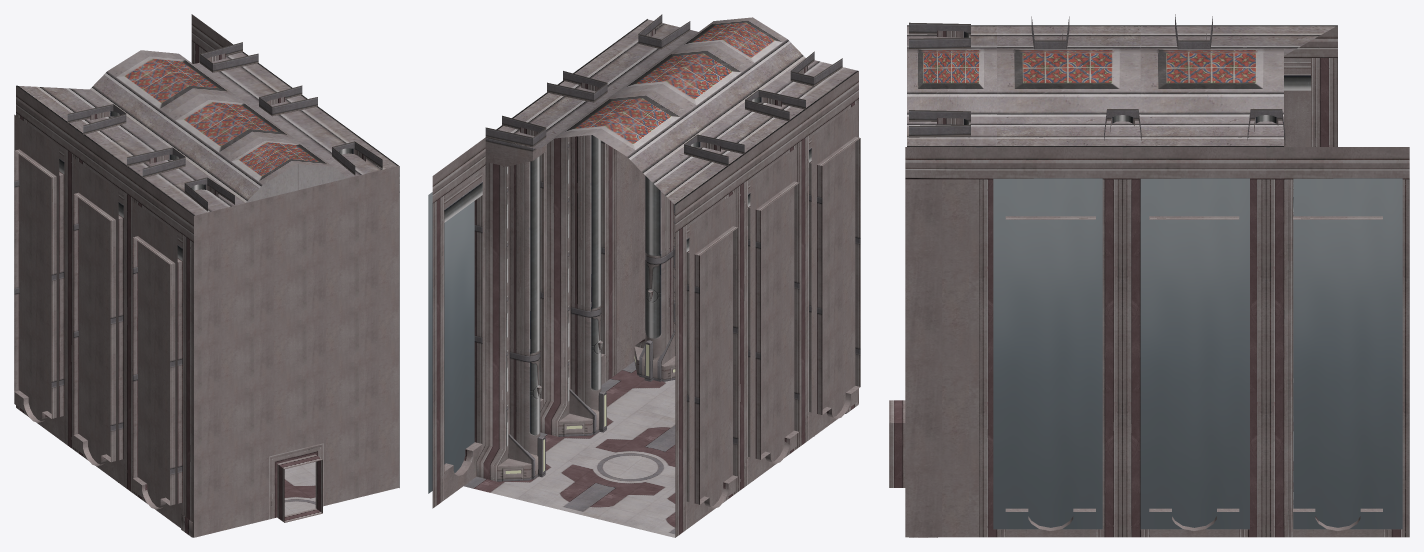
Rendered from Cor1_bldg_Minor_hall_02.fbx.
3 renders of one model, left to right at view 1: azimuth 30°, elevation 25°; view 2: azimuth 150°, elevation 25°; view 3: azimuth 270°, elevation 25°, orthographic. The views are drawn at different scales.
Visible parts, largest first — view 1: polymsh_extracted187, Minor_hall_02, window_main14, window_main15, window_main16, polymsh_extracted427, polymsh_extracted425, polymsh_extracted426, pillar_a19, pillar_a20, pillar_a18, pillar_a17 (+3 smaller); view 2: Minor_hall_02, pillar_a17, pillar_a18, window_main15, window_main16, window_main14, polymsh_extracted404, polymsh_extracted425, polymsh_extracted426, polymsh_extracted427, polymsh_extracted406, window_main33 (+5 smaller); view 3: polymsh_extracted406, Minor_hall_02, window_main31, window_main32, window_main33, polymsh_extracted405, polymsh_extracted404, polymsh_extracted425, window_main14, pillar_a22, pillar_a21, polymsh_extracted187.
Boxes of the visible parts, <box> form: polymsh_extracted187: <box>194,166,398,537</box>; Minor_hall_02: <box>16,50,398,515</box>; window_main14: <box>14,114,59,436</box>; window_main15: <box>73,158,118,479</box>; window_main16: <box>132,201,177,522</box>; polymsh_extracted427: <box>132,173,193,537</box>; polymsh_extracted425: <box>14,86,75,450</box>; polymsh_extracted426: <box>73,129,134,494</box>; pillar_a19: <box>67,104,126,134</box>; pillar_a20: <box>118,147,185,482</box>; pillar_a18: <box>259,85,317,116</box>; pillar_a17: <box>200,42,258,72</box>; Minor_hall_02: <box>464,17,858,537</box>; pillar_a17: <box>476,115,546,481</box>; pillar_a18: <box>540,71,607,436</box>; window_main15: <box>750,147,796,479</box>; window_main16: <box>811,103,857,434</box>; window_main14: <box>689,192,735,524</box>; polymsh_extracted404: <box>432,137,485,508</box>; polymsh_extracted425: <box>675,161,738,537</box>; polymsh_extracted426: <box>736,116,799,492</box>; polymsh_extracted427: <box>797,71,860,447</box>; polymsh_extracted406: <box>601,19,647,384</box>; window_main33: <box>428,192,474,493</box>; polymsh_extracted406: <box>905,147,1122,537</box>; Minor_hall_02: <box>907,25,1337,498</box>; window_main31: <box>993,178,1102,529</box>; window_main32: <box>1140,178,1249,529</box>; window_main33: <box>1293,178,1402,529</box>; polymsh_extracted405: <box>1122,147,1266,537</box>; polymsh_extracted404: <box>1266,147,1409,537</box>; polymsh_extracted425: <box>1284,25,1337,415</box>; window_main14: <box>1284,90,1311,377</box>; pillar_a22: <box>909,110,970,537</box>; pillar_a21: <box>909,22,970,49</box>; polymsh_extracted187: <box>889,400,905,487</box>.
Size of what is drawn, in the model's own units: 1800 by 2604 by 2900.
